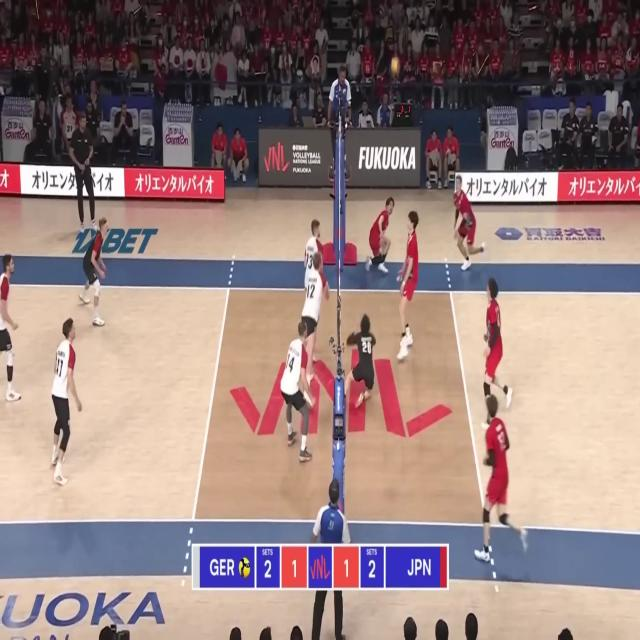referee: (309, 479, 350, 640)
team_one: (48, 317, 82, 491), (279, 320, 317, 464), (298, 254, 331, 390), (78, 218, 112, 330), (0, 254, 20, 402), (301, 221, 326, 332)
team_two: (474, 393, 530, 566), (481, 282, 511, 414), (395, 209, 420, 365), (452, 174, 488, 273), (344, 314, 378, 412), (366, 196, 395, 279)
